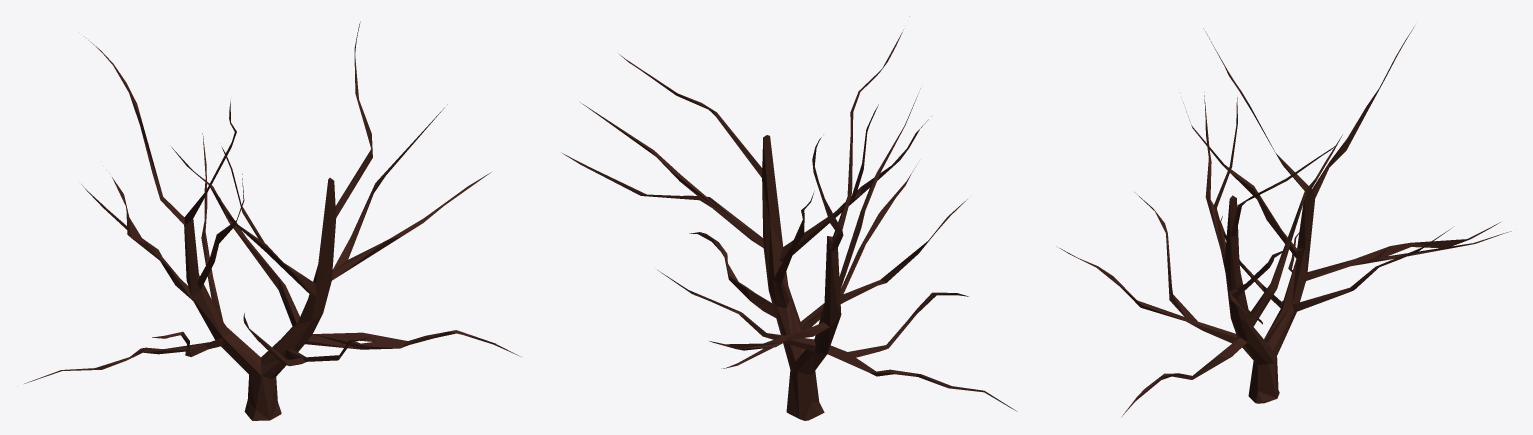
Rendered from dead_tree_i.FBX.
3 views of the same model, side by side, from view 1: azimuth 30°, elevation 25°; view 2: azimuth 150°, elevation 25°; view 3: azimuth 270°, elevation 25° (orthographic). The views are drawn at different scales.
Visible parts, largest first — view 1: dead_tree_i; view 2: dead_tree_i; view 3: dead_tree_i.
Part boxes in pixels (box(x1,y1,x2,y2)): dead_tree_i: box(24, 21, 520, 420); dead_tree_i: box(562, 16, 1017, 420); dead_tree_i: box(1056, 26, 1511, 417).
Bounding box in the file's own units: 1858 × 1400 × 1705.
